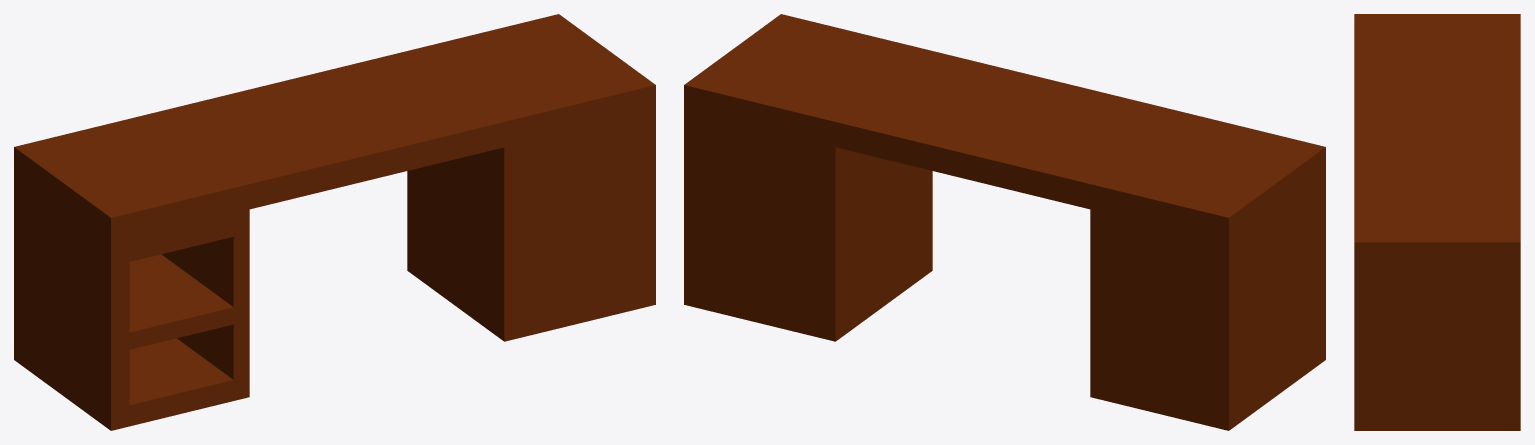
File: mueble de cuarto (2).fbx
3 views of the same model, side by side, from view 1: azimuth 30°, elevation 25°; view 2: azimuth 150°, elevation 25°; view 3: azimuth 270°, elevation 25° (orthographic). The views are drawn at different scales.
Visible parts, largest first — view 1: Cube; view 2: Cube; view 3: Cube.
Part boxes in pixels (x1,y1,x2,y2): Cube: (14, 14, 655, 430); Cube: (684, 14, 1325, 430); Cube: (1354, 14, 1520, 430).
Bounding box in the file's own units: 519 × 200 × 160.
